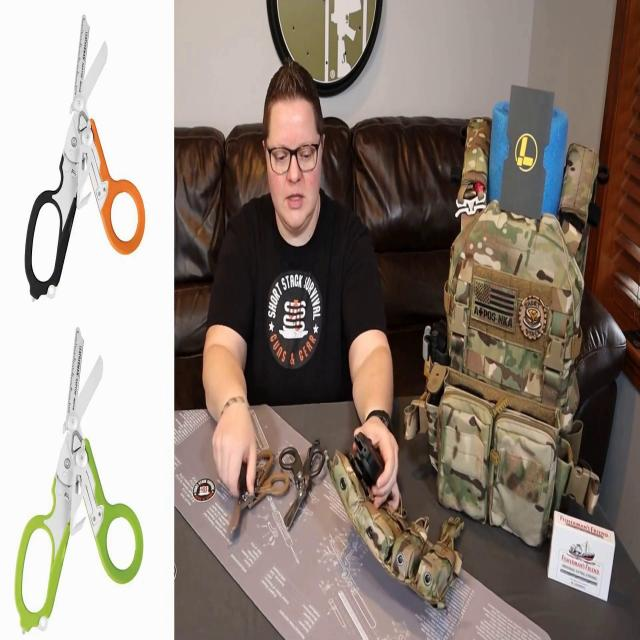scissor: (14, 325, 144, 633), (22, 12, 146, 304), (228, 448, 290, 536), (278, 438, 326, 530)
